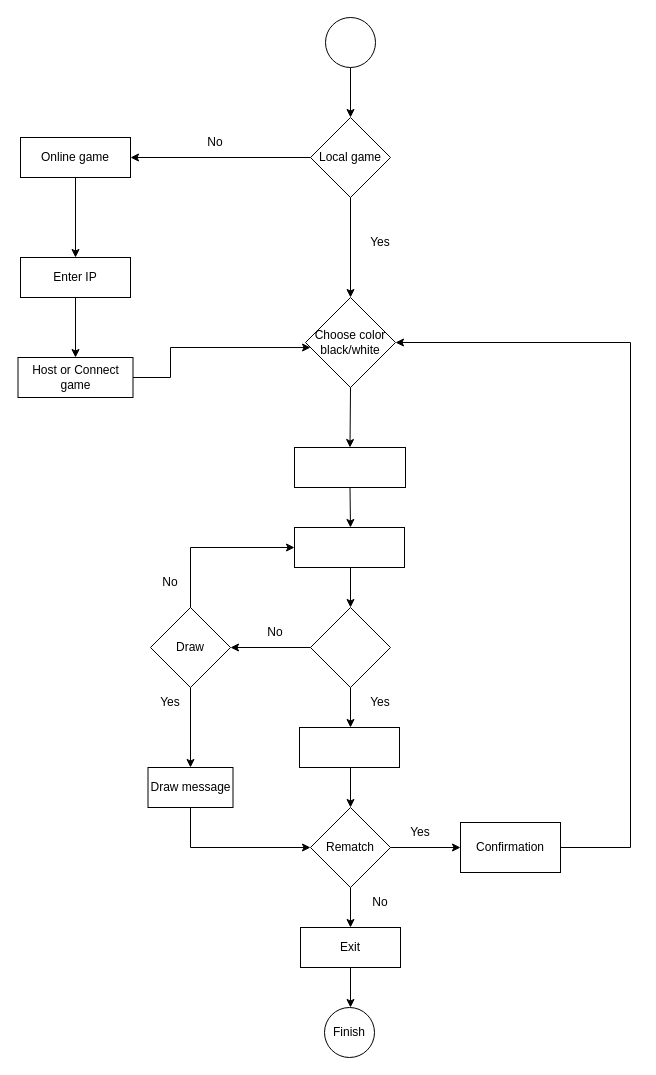
This 656x1075 diagram has some shape labels left out. The shapes that lost their labels are listed below. From the top down, each one's centre as x and y in pixels, then its label:
the point at 350,42: Start
the point at 350,467: Start the game
the point at 349,547: black/white piece move
the point at 350,647: Win
the point at 349,747: black/white win
